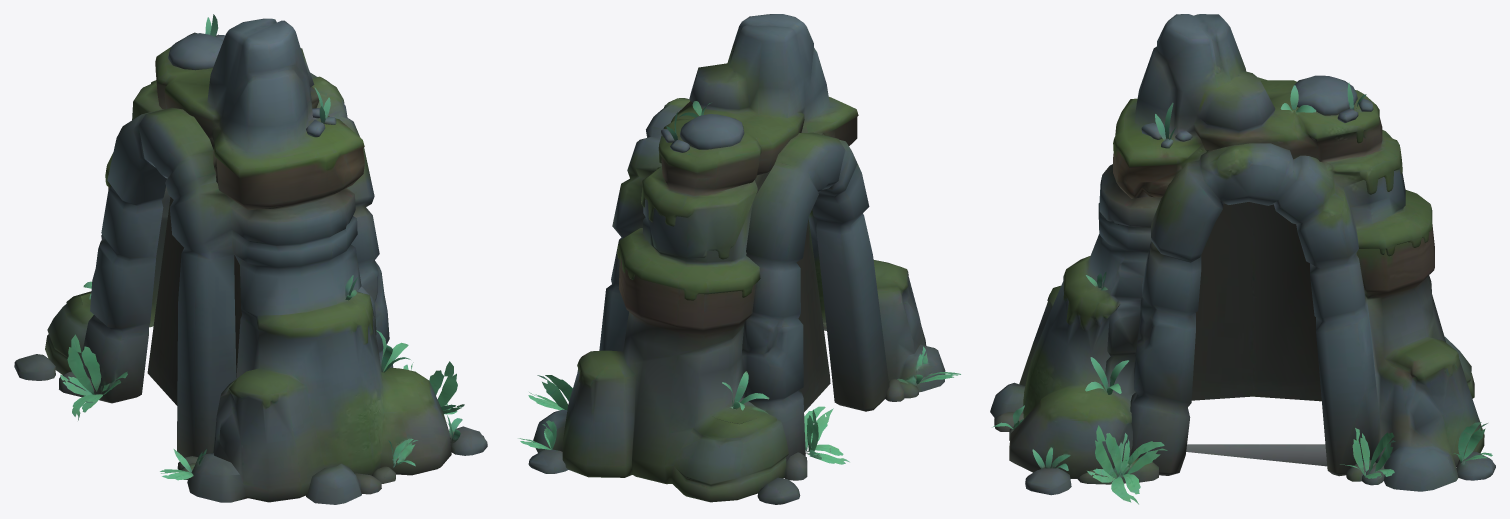
The model's file is cave_mouth_a.glb.
3 views of the same model, side by side, from view 1: azimuth 30°, elevation 25°; view 2: azimuth 150°, elevation 25°; view 3: azimuth 270°, elevation 25° (orthographic). The views are drawn at different scales.
Parts seen in each view (by area): view 1: tripo_node_726110a8-8d24-463d-aaf7-67d6be5895f5; view 2: tripo_node_726110a8-8d24-463d-aaf7-67d6be5895f5; view 3: tripo_node_726110a8-8d24-463d-aaf7-67d6be5895f5.
Part boxes in pixels (x1,y1,x2,y2): tripo_node_726110a8-8d24-463d-aaf7-67d6be5895f5: (14, 14, 487, 504); tripo_node_726110a8-8d24-463d-aaf7-67d6be5895f5: (518, 14, 960, 504); tripo_node_726110a8-8d24-463d-aaf7-67d6be5895f5: (990, 14, 1495, 504).
Size of the model in its own units: 0.7417 by 0.8765 by 0.9995.
1 material, 1 textured.
